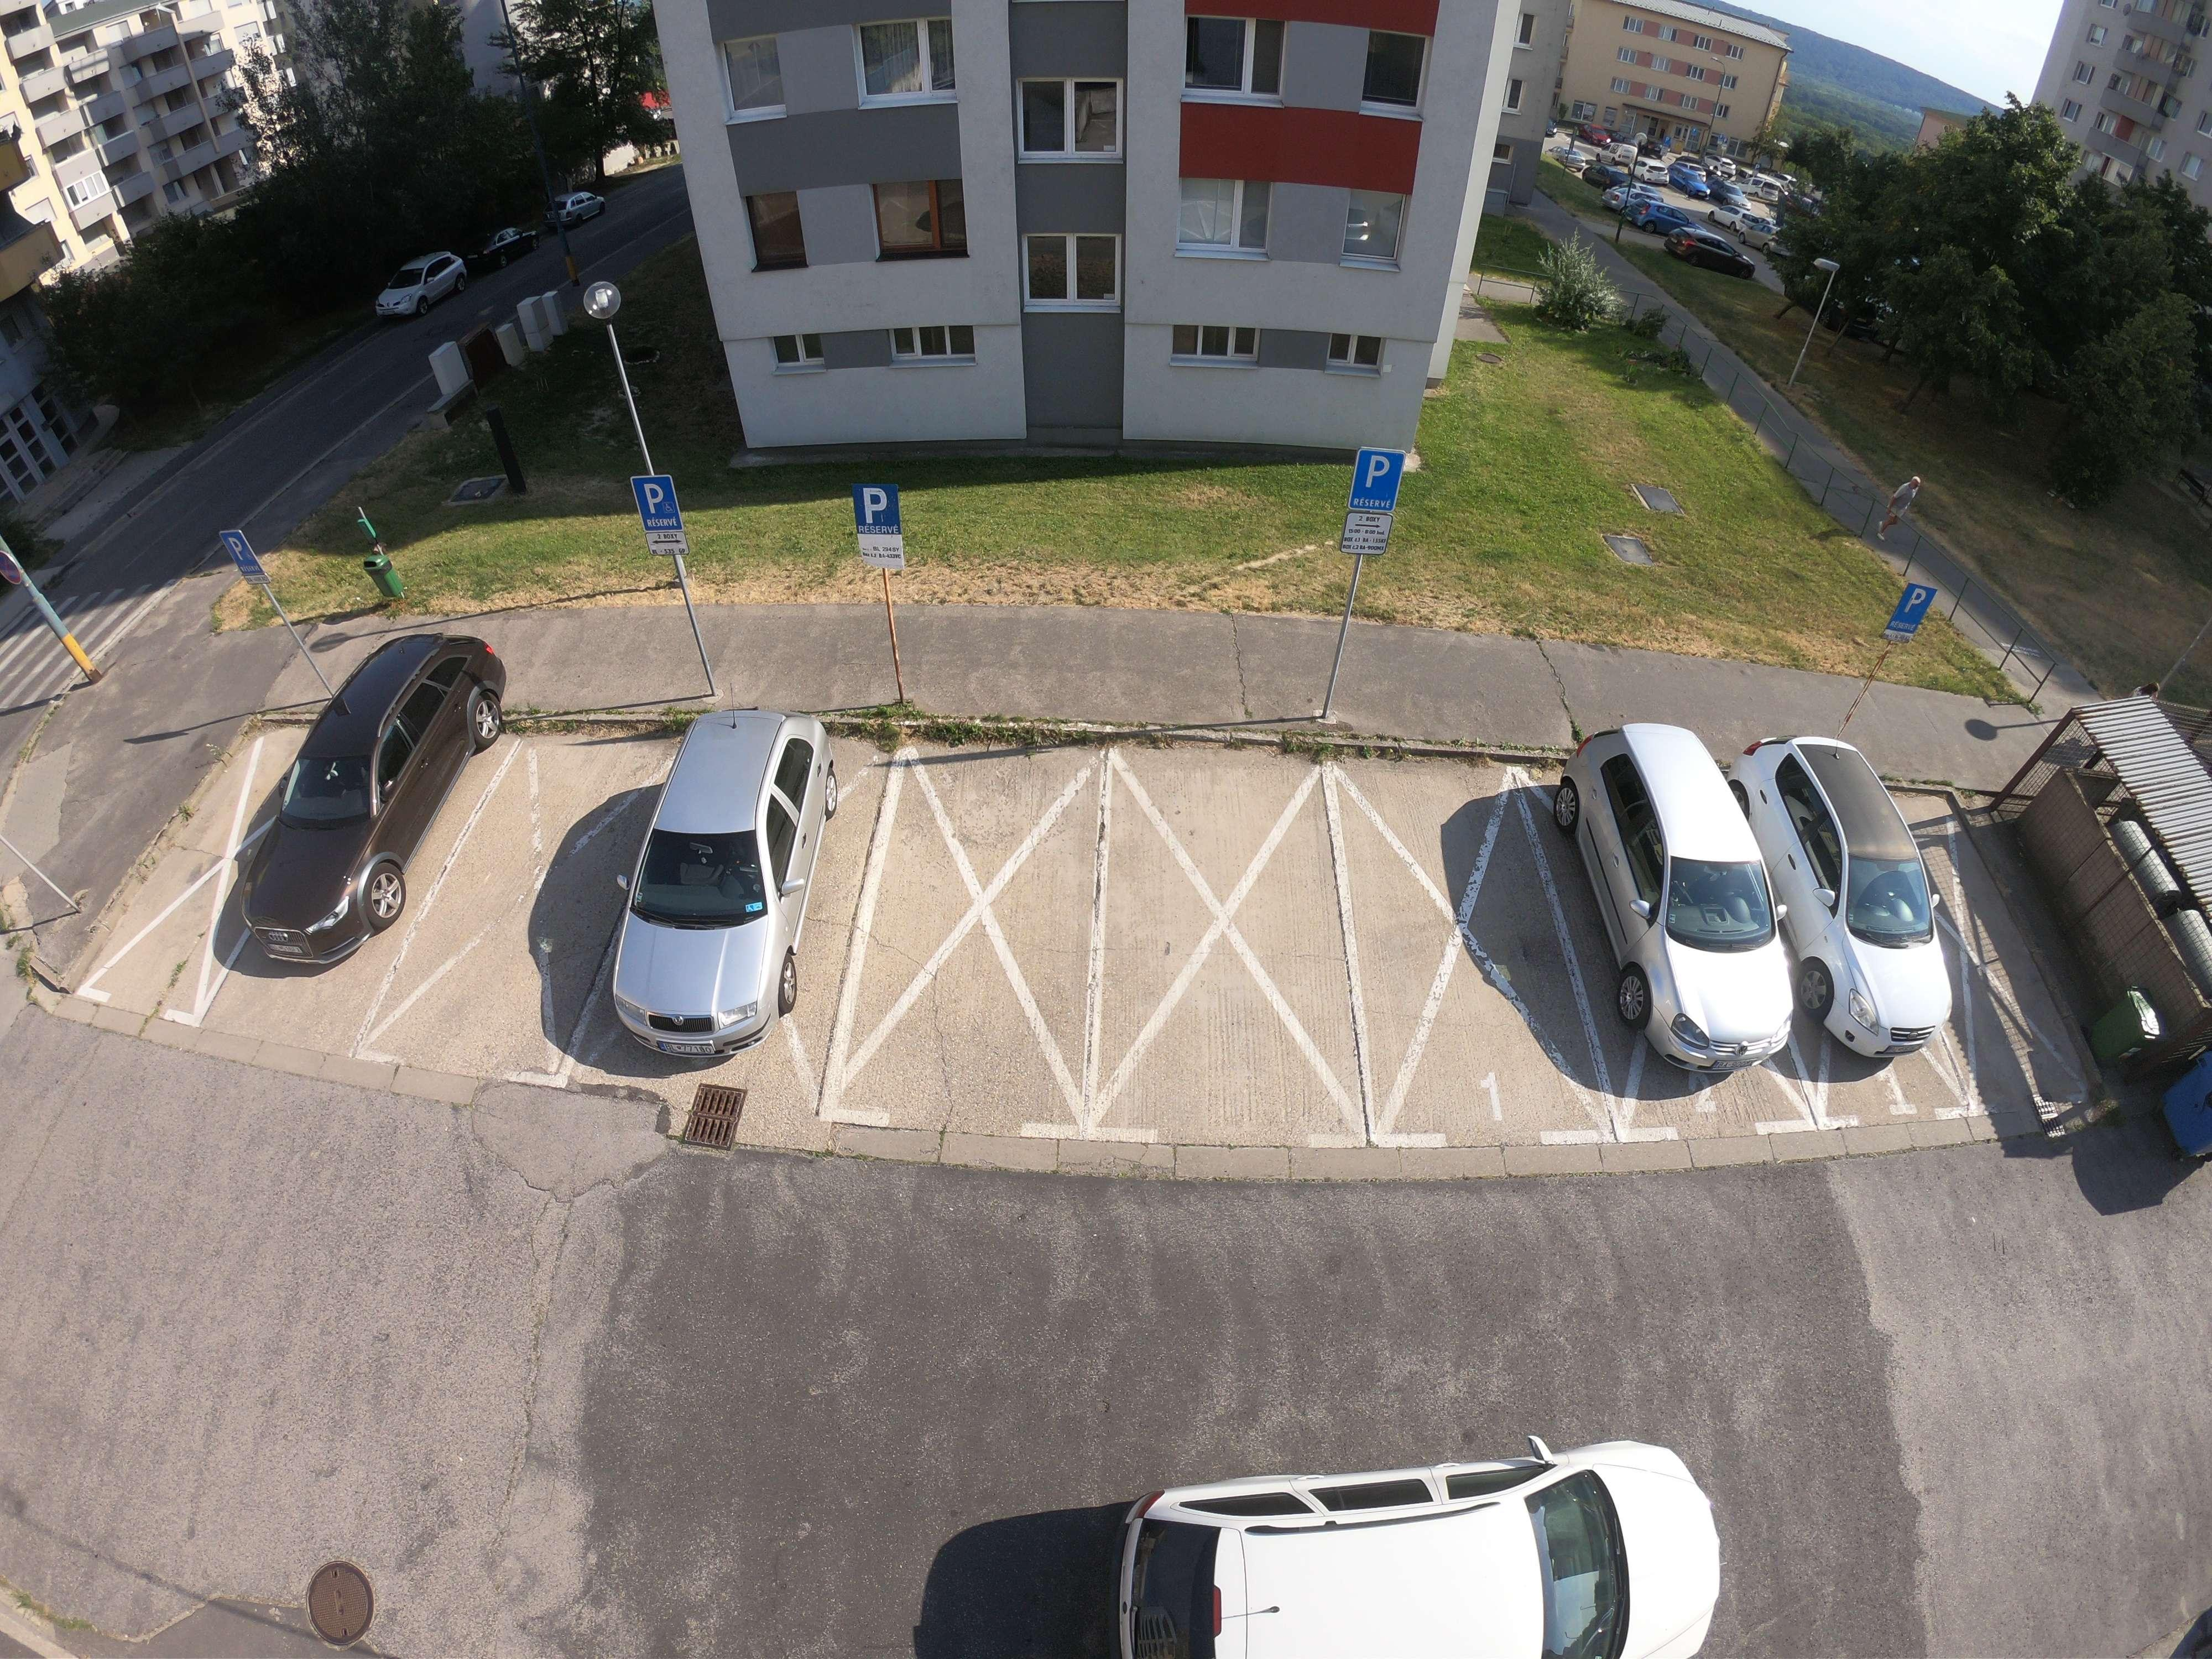empty: (1061, 1443, 1731, 1657), (556, 708, 833, 1056), (226, 627, 491, 979), (1557, 713, 1811, 1060), (2022, 673, 2212, 1103), (1771, 734, 1979, 1068), (369, 249, 488, 322)
occupied: (1122, 816, 1308, 1082), (1369, 830, 1538, 1089), (900, 802, 1069, 1054), (470, 777, 620, 999), (150, 810, 246, 971)
